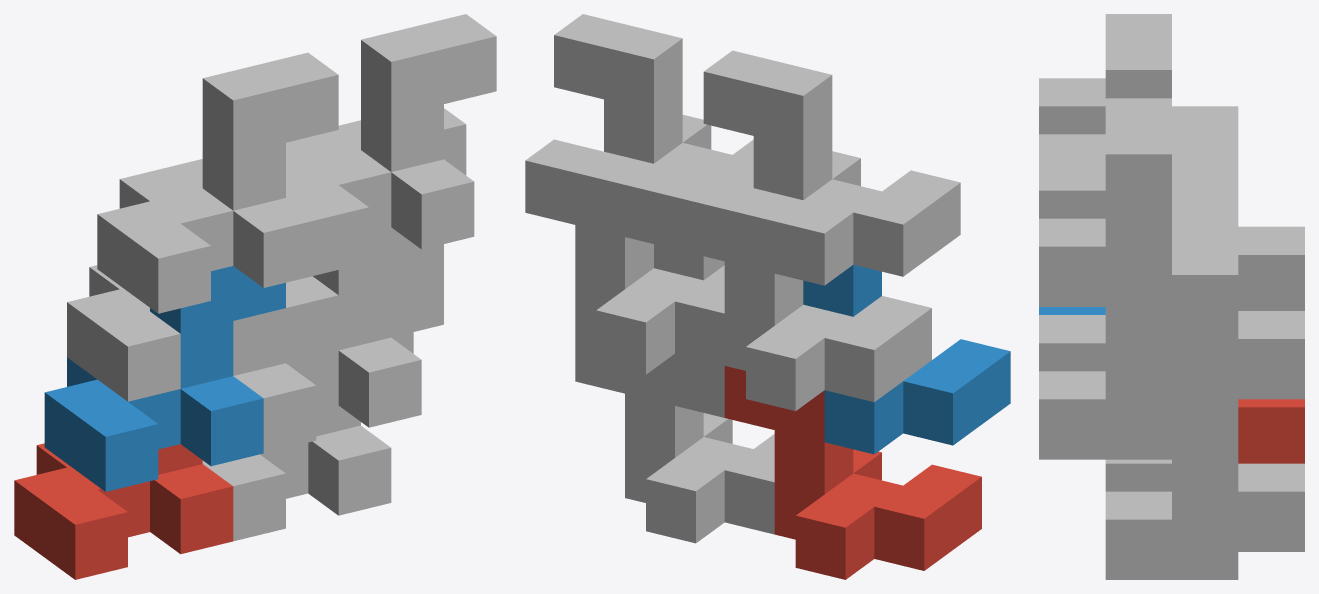
Rendered from tiling.obj.
3 views of the same model, side by side, from view 1: azimuth 30°, elevation 25°; view 2: azimuth 150°, elevation 25°; view 3: azimuth 270°, elevation 25° (orthographic). The views are drawn at different scales.
Parts seen in each view (by area): view 1: copy_1_domain_4, copy_1_domain_8, copy_1_domain_2, copy_1_domain_6, copy_1_domain_1, copy_1_domain_3, copy_1_domain_5, copy_1_domain_7; view 2: copy_1_domain_4, copy_1_domain_3, copy_1_domain_1, copy_1_domain_7, copy_1_domain_8, copy_1_domain_5, copy_1_domain_2, copy_1_domain_6; view 3: copy_1_domain_8, copy_1_domain_5, copy_1_domain_7, copy_1_domain_6, copy_1_domain_4, copy_1_domain_3, copy_1_domain_1, copy_1_domain_2.
Part boxes in pixels (<box>): copy_1_domain_4: <box>97,52,338,313</box>; copy_1_domain_8: <box>286,14,496,274</box>; copy_1_domain_2: <box>44,266,285,491</box>; copy_1_domain_6: <box>233,227,443,453</box>; copy_1_domain_1: <box>14,443,233,579</box>; copy_1_domain_3: <box>67,147,307,401</box>; copy_1_domain_5: <box>202,332,413,541</box>; copy_1_domain_7: <box>286,108,466,362</box>; copy_1_domain_4: <box>703,50,960,285</box>; copy_1_domain_3: <box>675,176,931,411</box>; copy_1_domain_1: <box>724,366,981,579</box>; copy_1_domain_7: <box>525,139,724,374</box>; copy_1_domain_8: <box>554,14,753,248</box>; copy_1_domain_5: <box>575,329,774,543</box>; copy_1_domain_2: <box>803,264,1010,454</box>; copy_1_domain_6: <box>654,244,724,417</box>; copy_1_domain_8: <box>1039,98,1238,306</box>; copy_1_domain_5: <box>1105,427,1304,579</box>; copy_1_domain_7: <box>1105,218,1304,427</box>; copy_1_domain_6: <box>1039,307,1171,459</box>; copy_1_domain_4: <box>1039,14,1238,162</box>; copy_1_domain_3: <box>1172,134,1304,310</box>; copy_1_domain_1: <box>1238,399,1304,463</box>; copy_1_domain_2: <box>1039,307,1105,314</box>.
Size of the model in its own units: 8 by 8 by 4.
